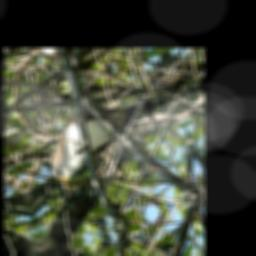Cuckoo: (40, 77, 184, 198)
